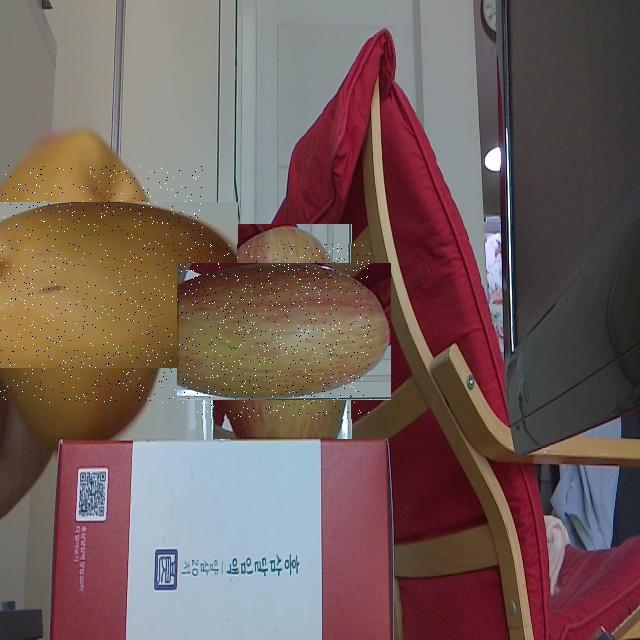apple: (196, 244, 372, 419)
pear: (0, 165, 203, 403)
